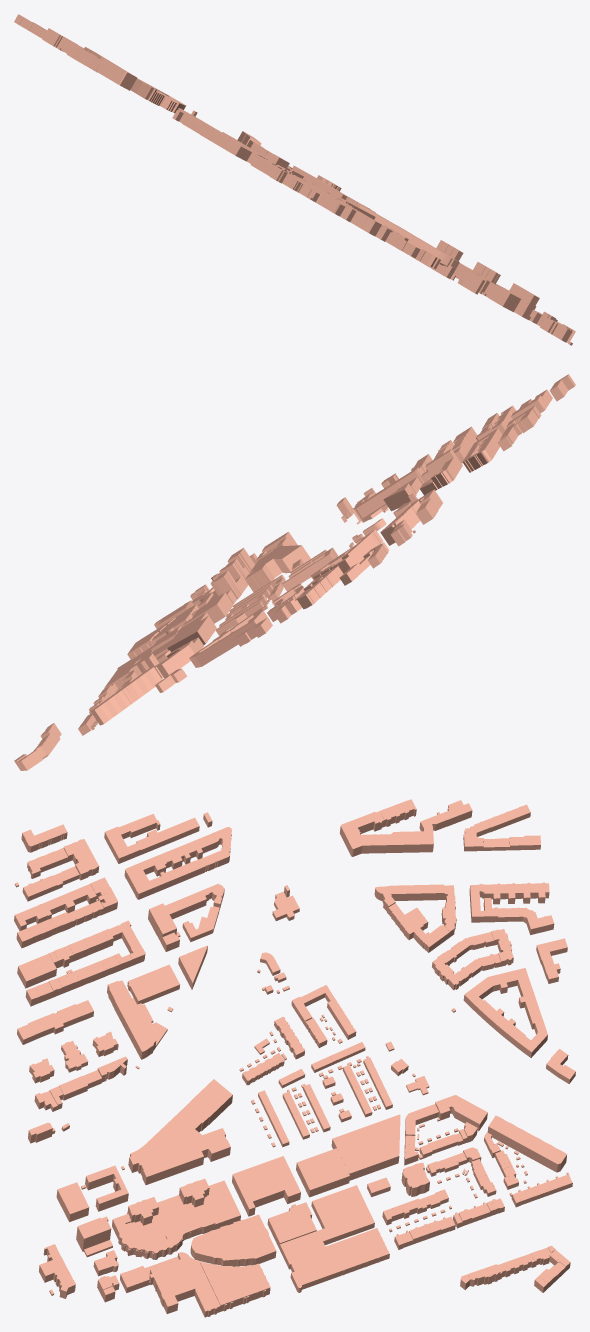
3 renders of one model, top to bottom at view 1: azimuth 30°, elevation 25°; view 2: azimuth 150°, elevation 25°; view 3: azimuth 270°, elevation 25°, orthographic. The views are drawn at different scales.
Size of the model in its own units: 538 by 401 by 630.
